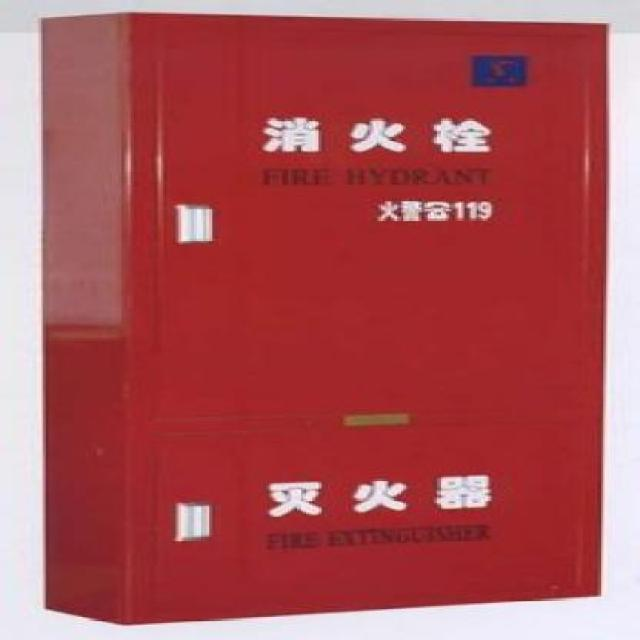firehydrant: (29, 8, 627, 630)
